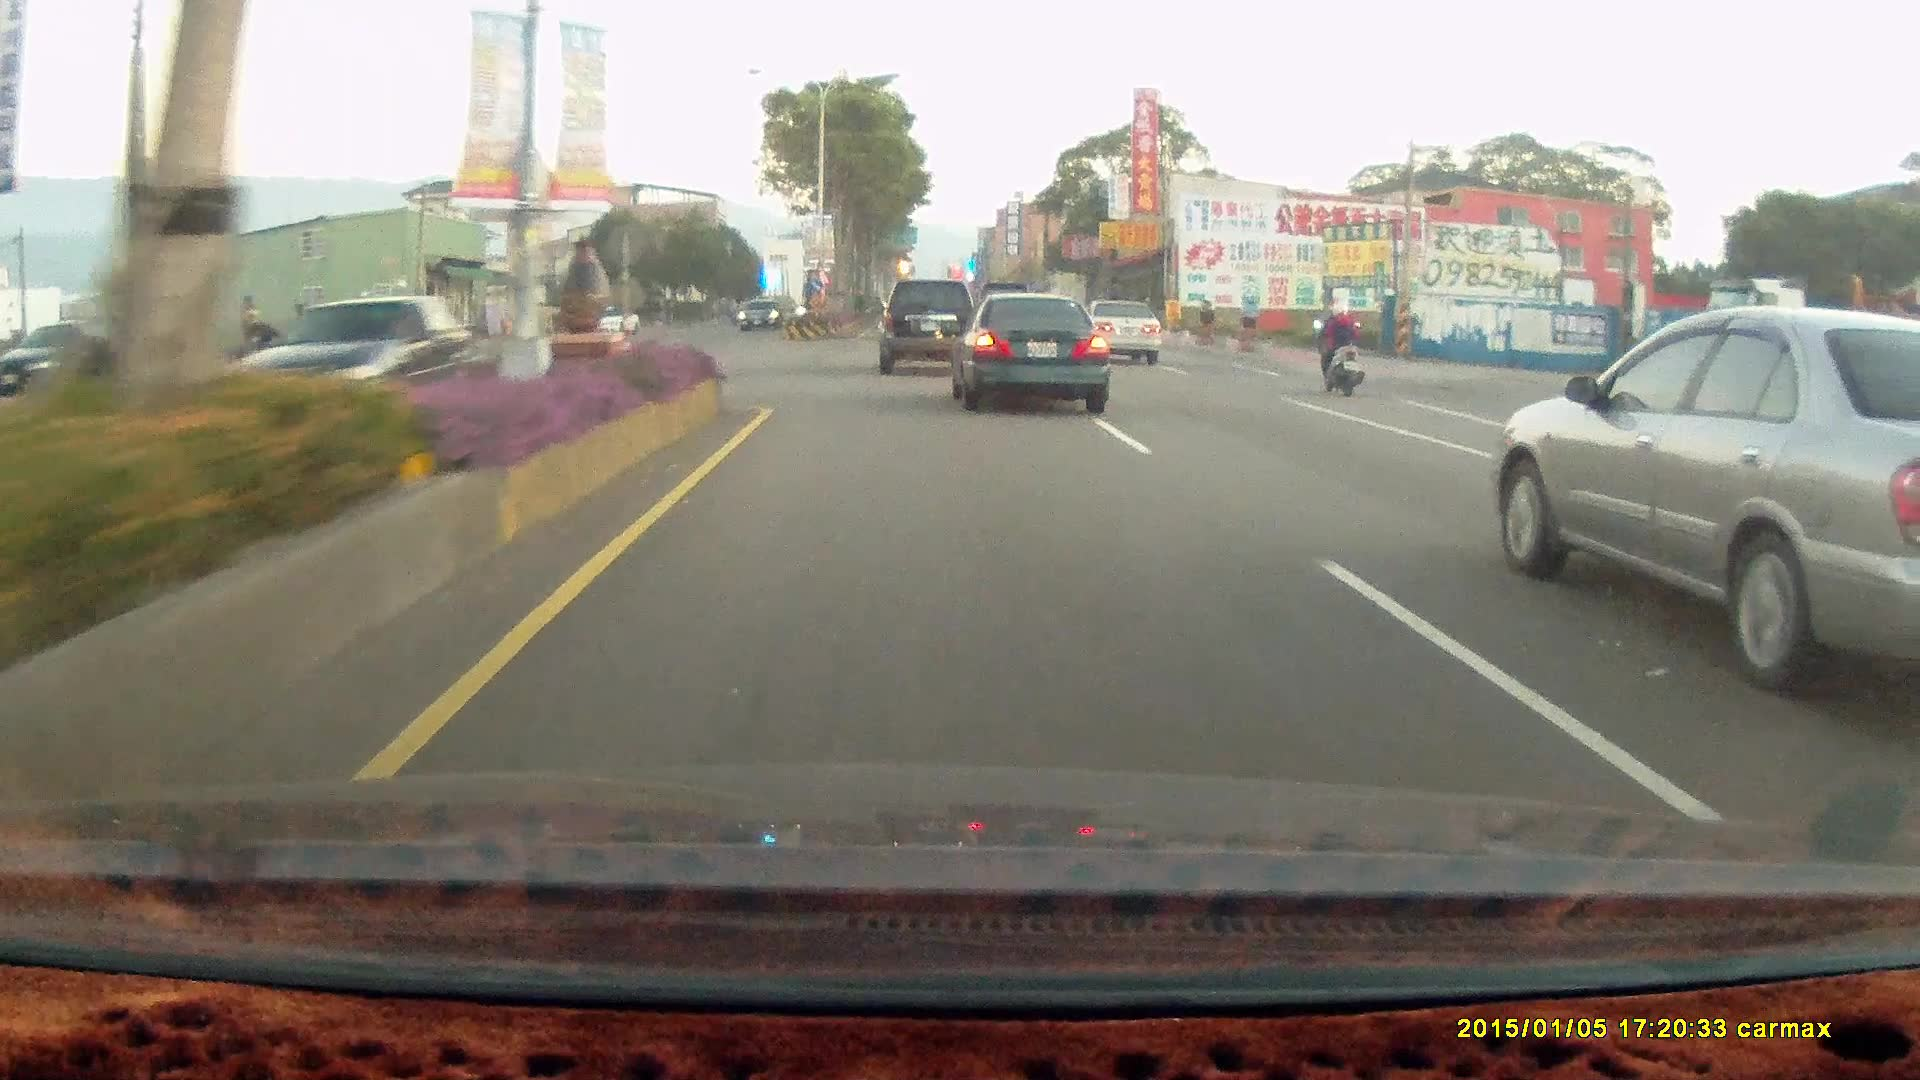pedestrian: (241, 321, 279, 373)
rider: (1301, 288, 1374, 404), (1309, 295, 1365, 392)
vehicle: (1495, 301, 1920, 690), (213, 295, 492, 429), (219, 298, 497, 427), (939, 291, 1102, 411), (957, 296, 1118, 416), (880, 274, 983, 374), (0, 322, 128, 398), (877, 278, 977, 375), (1078, 296, 1164, 364), (1078, 295, 1163, 363), (737, 297, 786, 334), (587, 305, 640, 335), (736, 296, 782, 329)
